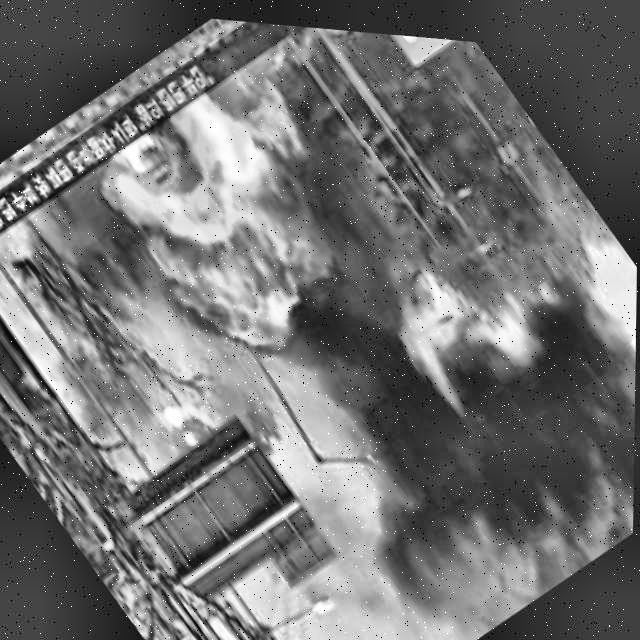Fire: (91, 72, 356, 365), (0, 244, 40, 330)
Smoke: (212, 138, 639, 640), (3, 175, 220, 430)
